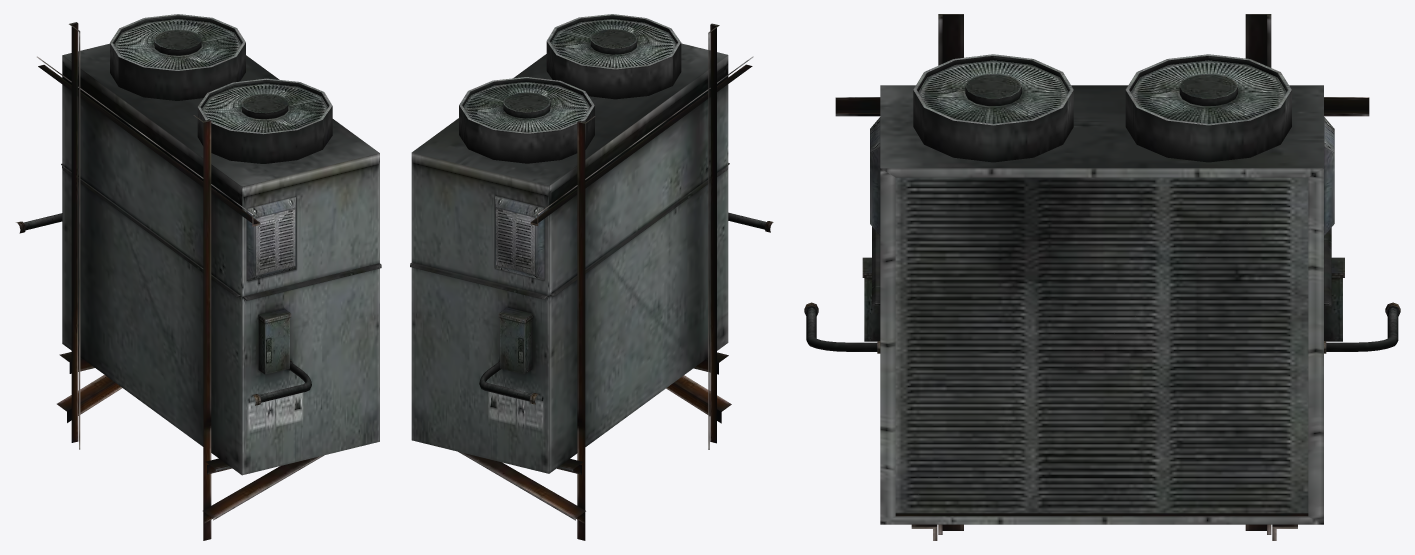
The model's file is acunit02.glb.
3 views of the same model, side by side, from view 1: azimuth 30°, elevation 25°; view 2: azimuth 150°, elevation 25°; view 3: azimuth 270°, elevation 25° (orthographic). The views are drawn at different scales.
Parts seen in each view (by area): view 1: 0_ACUnits01; view 2: 0_ACUnits01; view 3: 0_ACUnits01.
Boxes of the visible parts, x1,y1,x2,y2 form: 0_ACUnits01: (16, 14, 381, 540); 0_ACUnits01: (410, 14, 773, 540); 0_ACUnits01: (804, 14, 1400, 540).
Bounding box in the file's own units: 0.475 × 1.2 × 1.26.
Materials: 1 (1 with a texture image).
